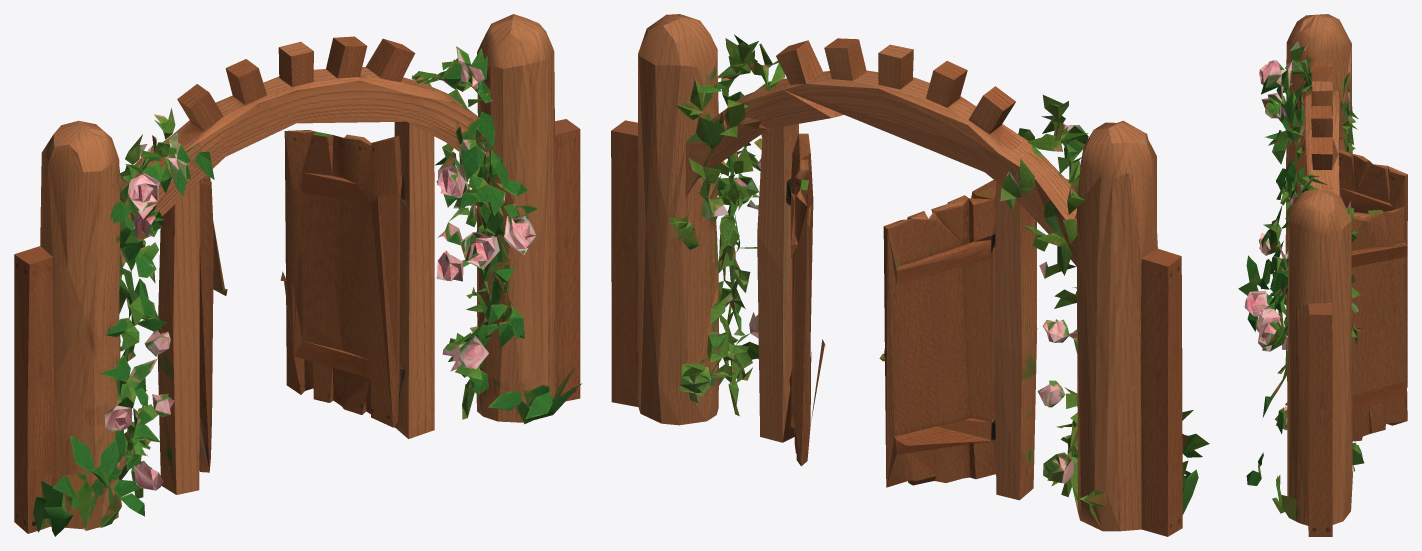
The model's file is rose_arch.glb.
The picture shows the model from 3 angles, left to right: view 1: azimuth 30°, elevation 25°; view 2: azimuth 150°, elevation 25°; view 3: azimuth 270°, elevation 25°; orthographic projection. The views are drawn at different scales.
Size of the model in its own units: 1.9 by 1.35 by 0.6095.
Materials: 1 (1 with a texture image).
